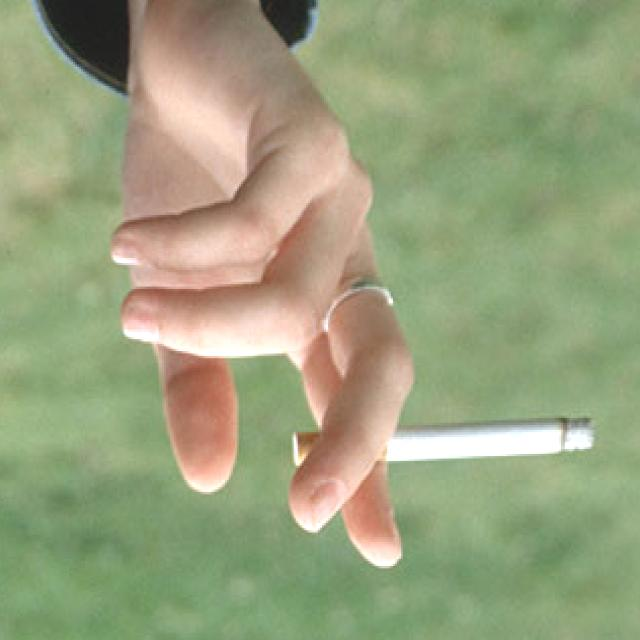cigarette: (380, 417, 592, 467)
